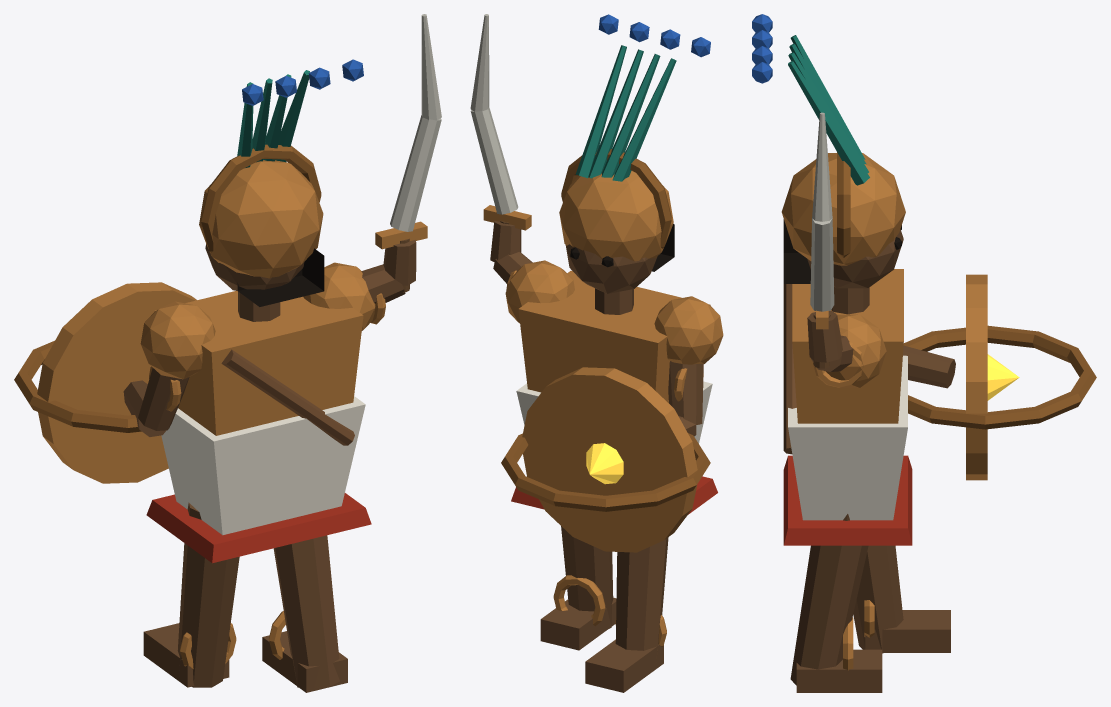
File: sangam_warrior.glb
3 renders of one model, left to right at view 1: azimuth 30°, elevation 25°; view 2: azimuth 150°, elevation 25°; view 3: azimuth 270°, elevation 25°, orthographic. The views are drawn at different scales.
Visible parts, largest first — view 1: legL; view 2: legL; view 3: legL.
Boxes of the visible parts, box(x1,y1,x2,y2) form: legL: box(14, 14, 441, 692); legL: box(470, 14, 723, 692); legL: box(752, 14, 1096, 692).
Size of the model in its own units: 0.8639 by 1.62 by 0.8038.
